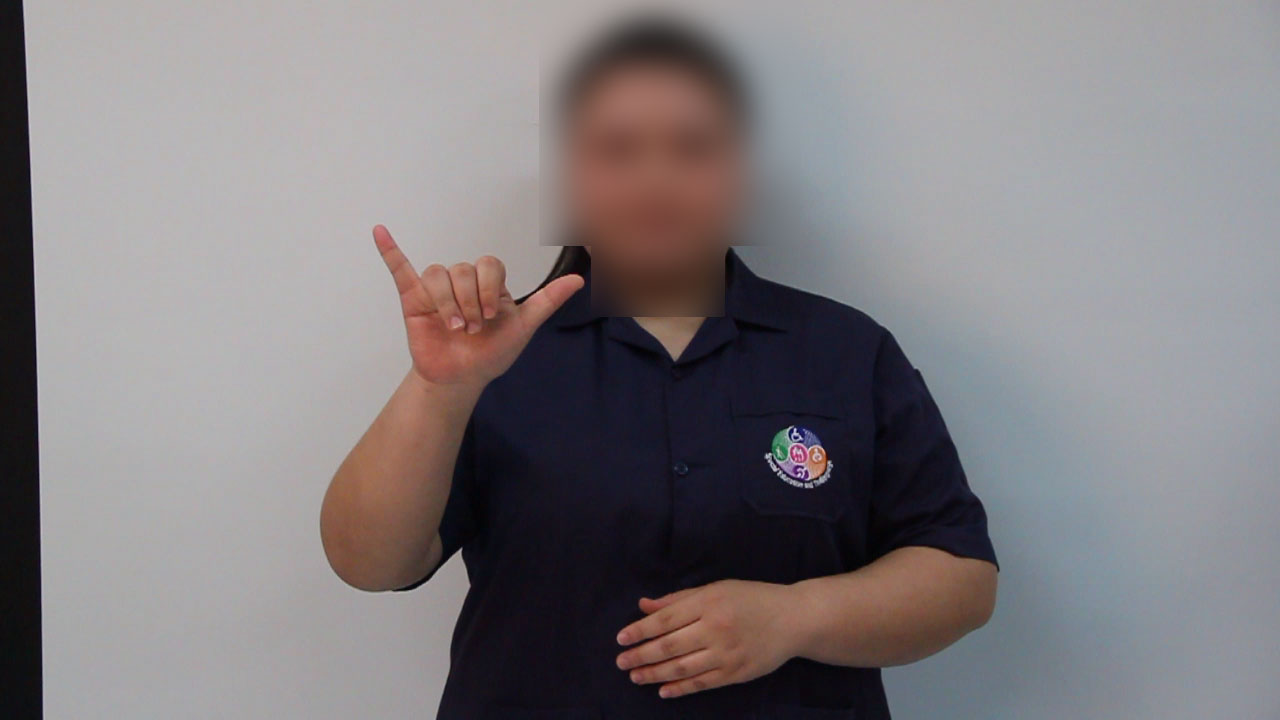yor: (360, 207, 594, 402)
